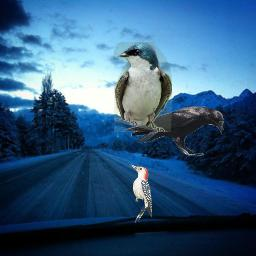Crow: (123, 106, 224, 156)
Swallow: (114, 42, 172, 132)
Woodpecker: (129, 164, 152, 223)
